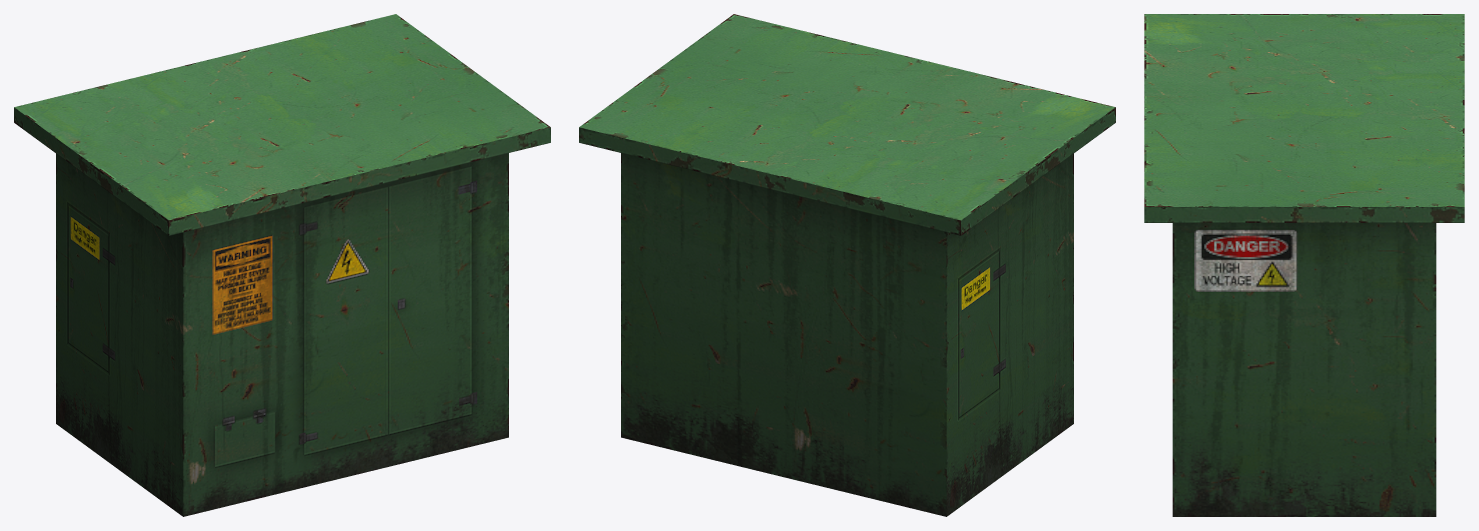
Rendered from powerbox4.fbx.
3 views of the same model, side by side, from view 1: azimuth 30°, elevation 25°; view 2: azimuth 150°, elevation 25°; view 3: azimuth 270°, elevation 25° (orthographic). The views are drawn at different scales.
Parts seen in each view (by area): view 1: powerboxes_LP_polySurface77; view 2: powerboxes_LP_polySurface77; view 3: powerboxes_LP_polySurface77.
Part boxes in pixels (x1,y1,x2,y2): powerboxes_LP_polySurface77: (14,14,550,516); powerboxes_LP_polySurface77: (579,14,1115,516); powerboxes_LP_polySurface77: (1144,14,1464,516).
Bounding box in the file's own units: 1.74 × 1.36 × 1.22.
